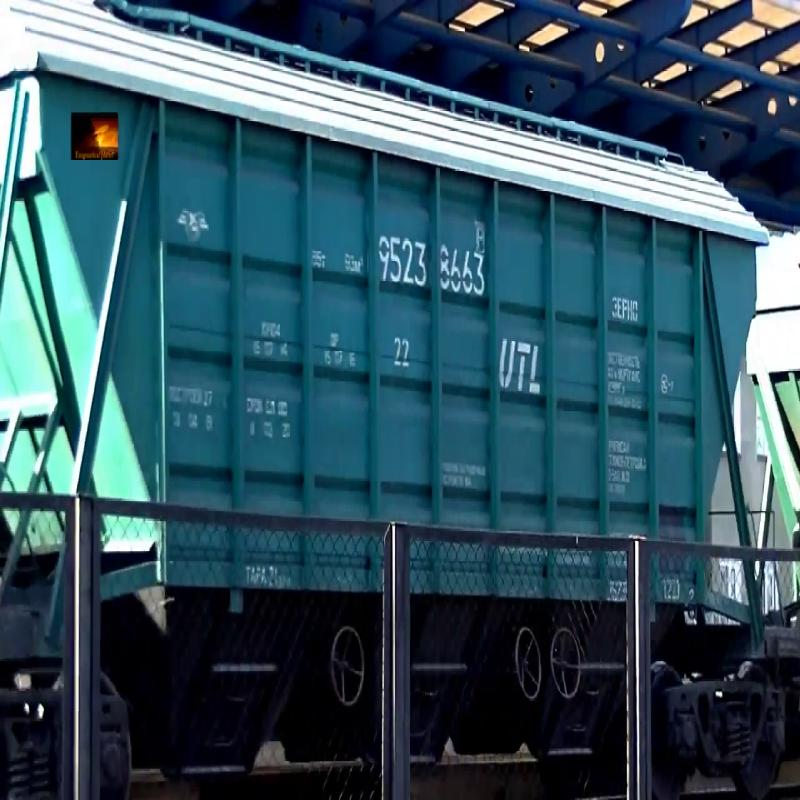train: (24, 1, 800, 778)
